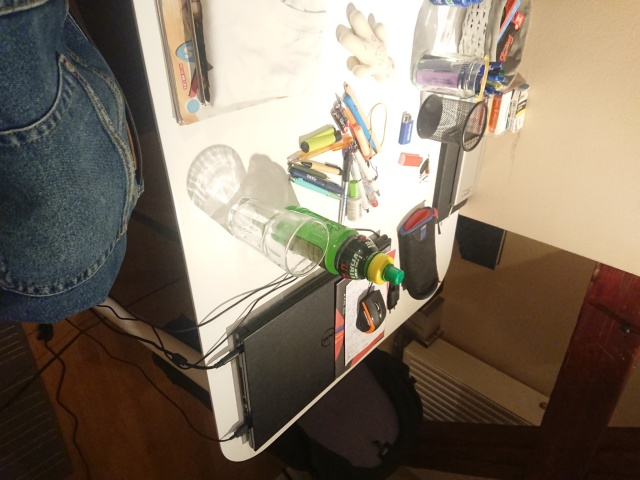Vindi Iso Sport Lemon-Grapefruit 500mL: (269, 203, 406, 287)
